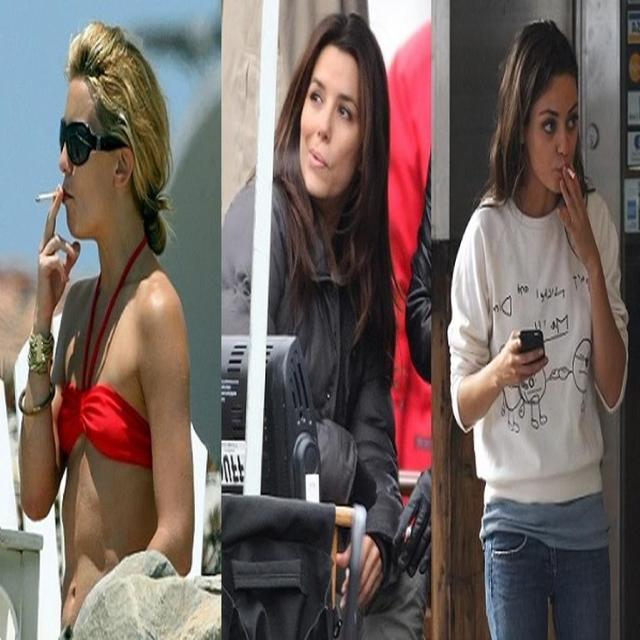smoking: (278, 0, 431, 574), (31, 40, 148, 342), (508, 48, 606, 284)
